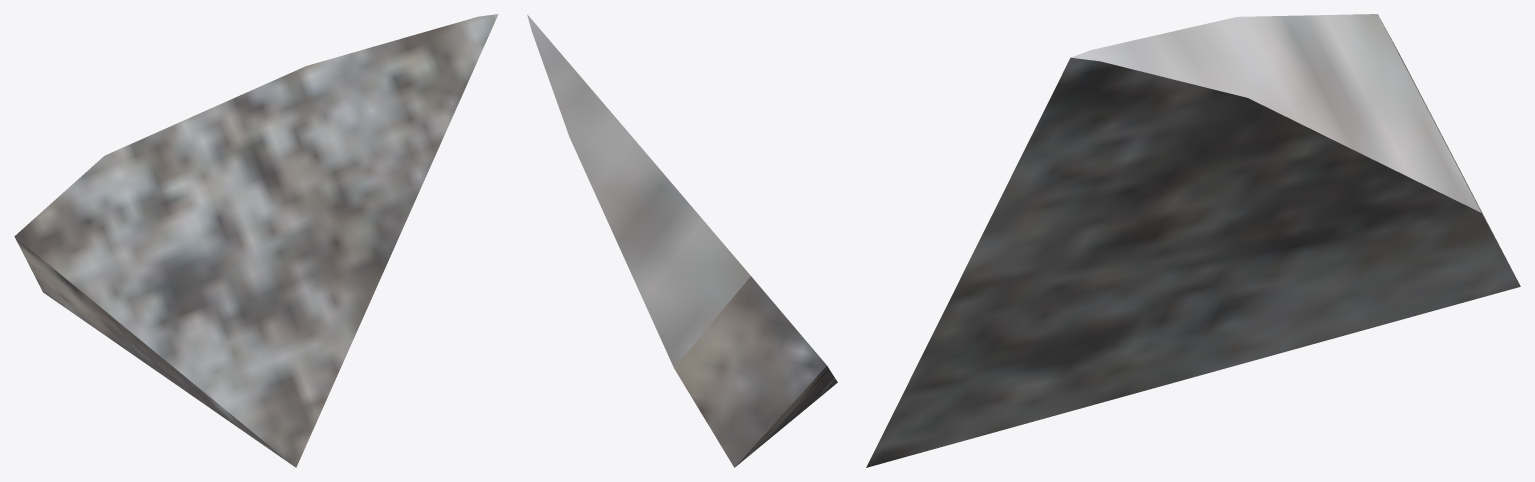
File: Asteroid_Large_001_02_006_03_022.fbx
3 views of the same model, side by side, from view 1: azimuth 30°, elevation 25°; view 2: azimuth 150°, elevation 25°; view 3: azimuth 270°, elevation 25° (orthographic). The views are drawn at different scales.
Visible parts, largest first — view 1: Asteroid_Large_001_02_006_03_022; view 2: Asteroid_Large_001_02_006_03_022; view 3: Asteroid_Large_001_02_006_03_022.
Part boxes in pixels (left/top/right/bottom): Asteroid_Large_001_02_006_03_022: left=14, top=14, right=498, bottom=467; Asteroid_Large_001_02_006_03_022: left=527, top=14, right=837, bottom=467; Asteroid_Large_001_02_006_03_022: left=866, top=14, right=1520, bottom=467.
Bounding box in the file's own units: 1.97 × 1.68 × 1.55.
